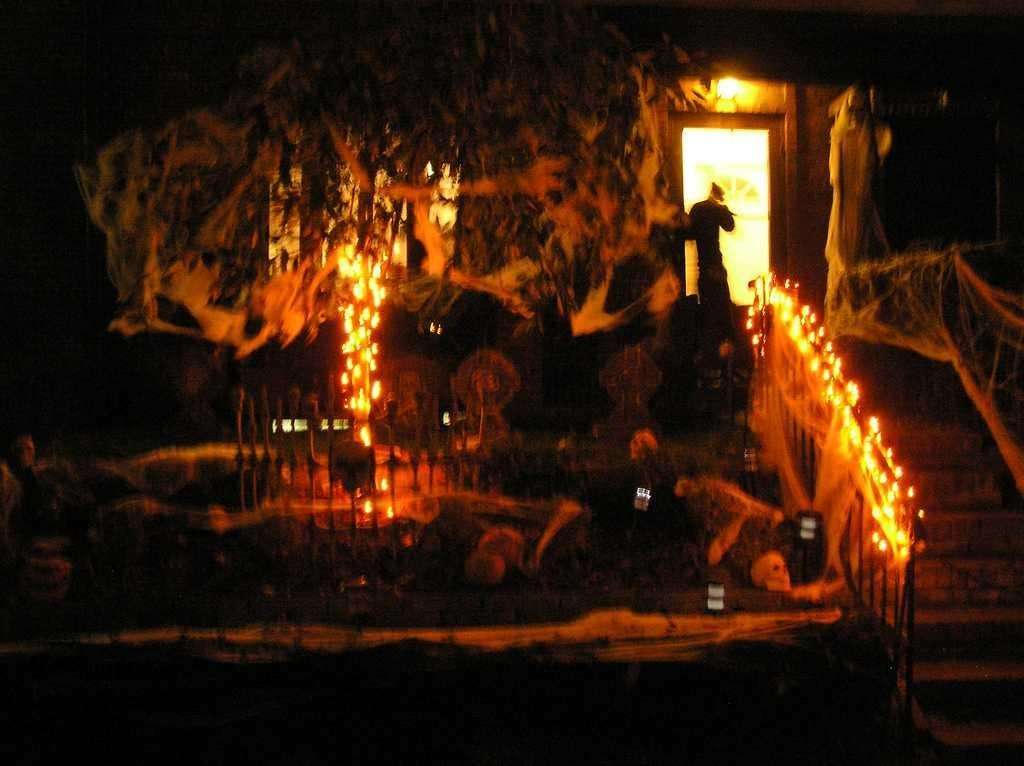fire: (686, 128, 770, 202), (726, 212, 764, 300)
